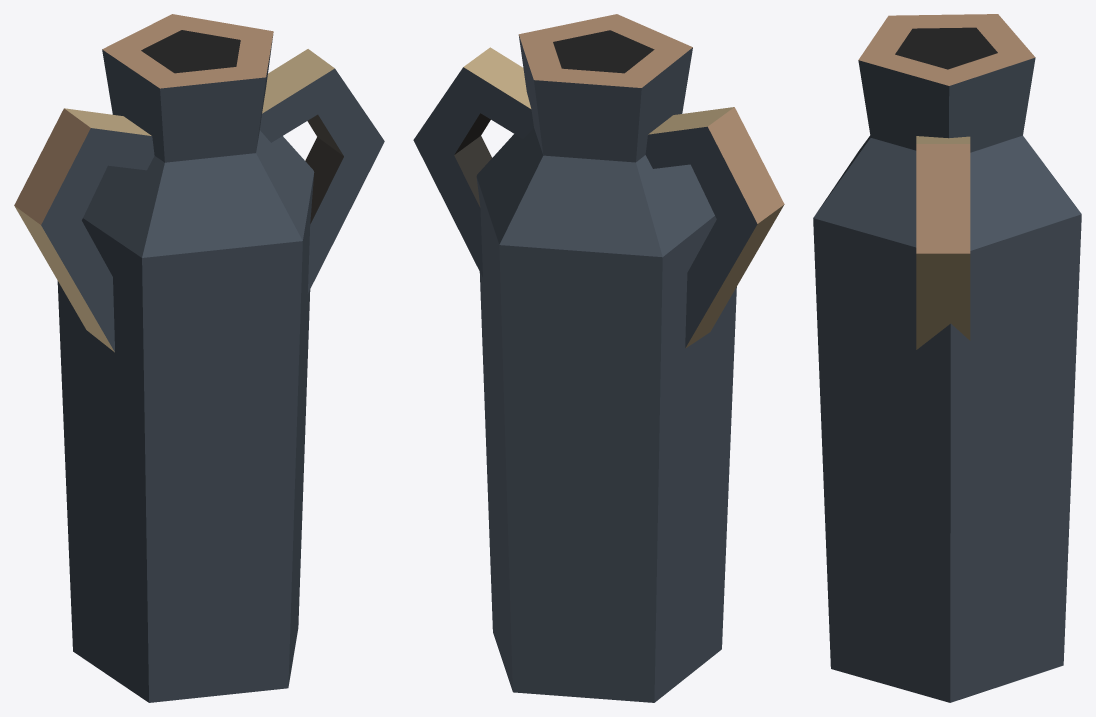
Rendered from TB_D_Prop_Jar_P.FBX.
The picture shows the model from 3 angles, left to right: view 1: azimuth 30°, elevation 25°; view 2: azimuth 150°, elevation 25°; view 3: azimuth 270°, elevation 25°; orthographic projection.
Visible parts, largest first — view 1: TB_D_Prop_Jar_P; view 2: TB_D_Prop_Jar_P; view 3: TB_D_Prop_Jar_P.
Part boxes in pixels (x1,y1,x2,y2): TB_D_Prop_Jar_P: (14, 14, 384, 702); TB_D_Prop_Jar_P: (413, 14, 784, 702); TB_D_Prop_Jar_P: (813, 14, 1081, 702).
Bounding box in the file's own units: 0.712 × 1.19 × 0.4807.
